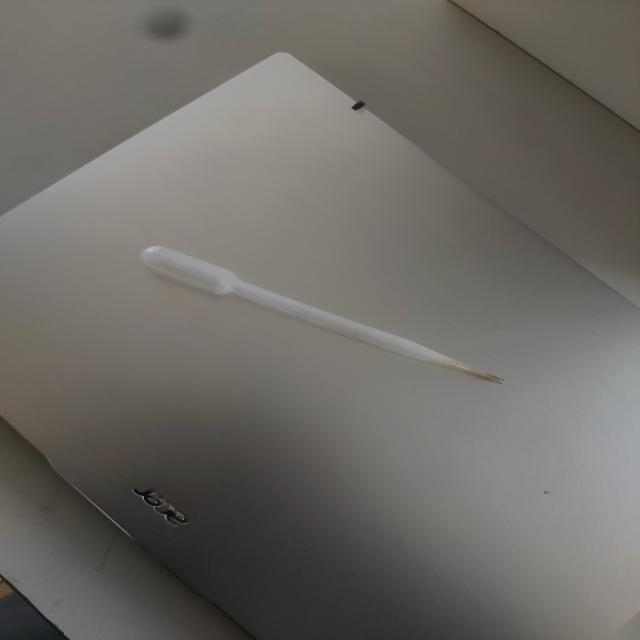Pipette: (120, 216, 531, 413)
